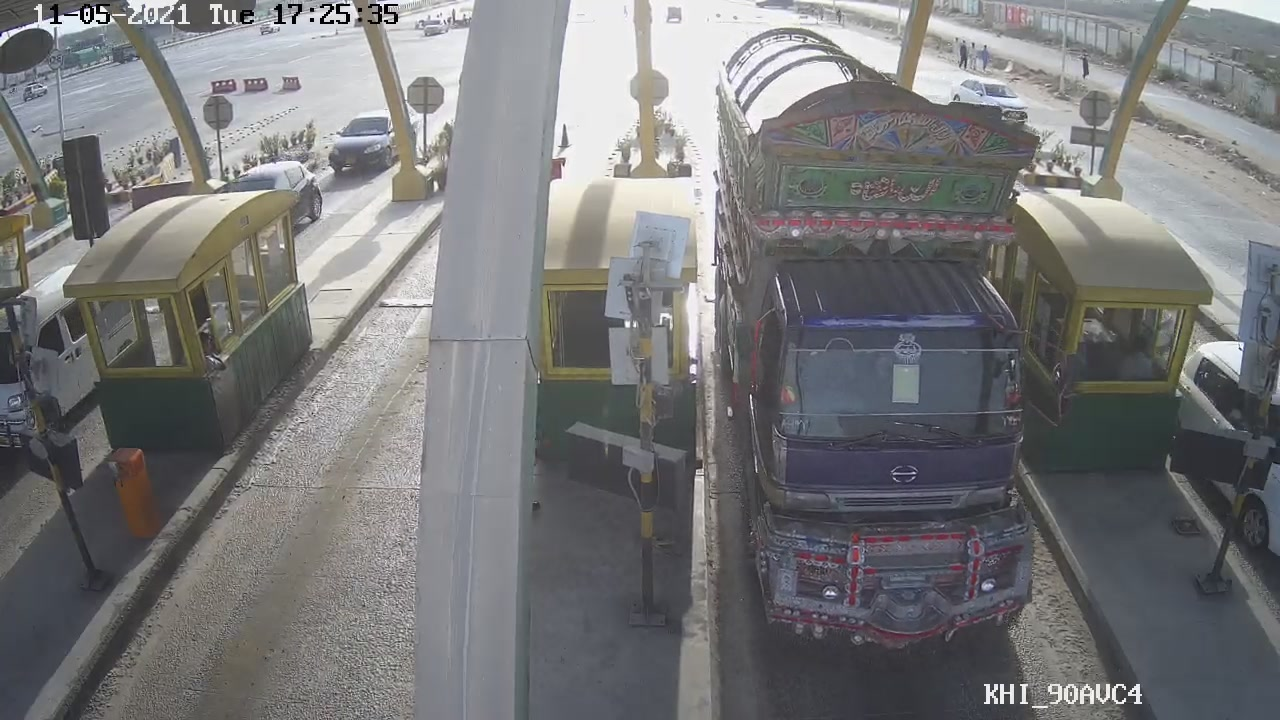F5: (699, 65, 1072, 653)
